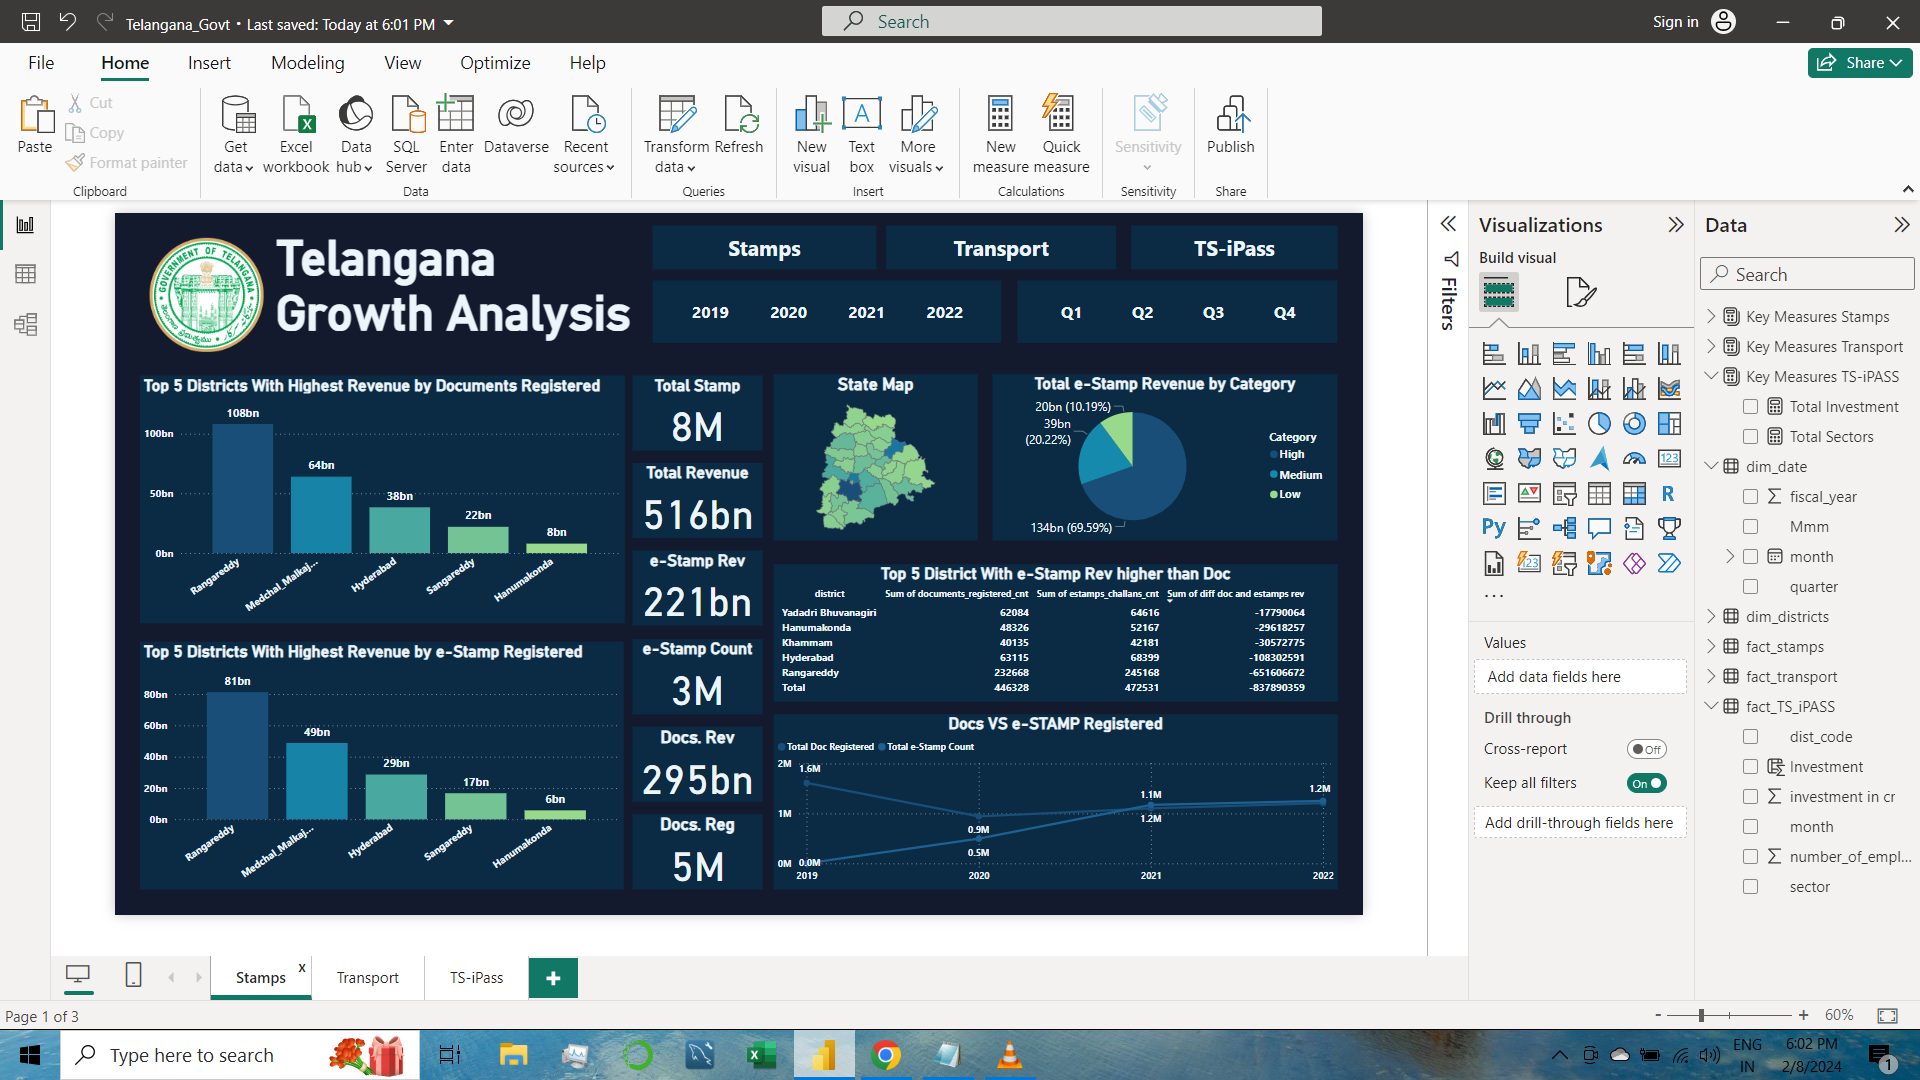

The dashboard page shown, as its layout file describes it:
{"tool":"powerbi","page":{"name":"Stamps","canvas":[1664,936],"ordinal":0},"visuals":[{"type":"slicer","fields":{"Values":["dim_date.fiscal_year"]},"box":[716.7,90,465,83.3],"z":0},{"type":"slicer","fields":{"Values":["dim_date.quarter"]},"box":[1203.3,90,426.7,83.3],"z":1000},{"type":"clusteredColumnChart","title":"Top 5 Districts With Highest Revenue by Documents Registered","fields":{"Y":["Key Measures.Total Docs Reg Revenue"],"Category":["dim_districts.district"]},"box":[34,216,646,330],"z":2000},{"type":"clusteredColumnChart","title":"Top 5 Districts With Highest Revenue by e-Stamp Registered","fields":{"Y":["Key Measures.Total e-Stamp Revenue"],"Category":["dim_districts.district"]},"box":[33.3,571.7,645,330],"z":3000},{"type":"lineChart","title":"Docs VS e-STAMP Registered","fields":{"Y":["Key Measures.Total Doc Registered","Key Measures.Total e-Stamp Count"],"Category":["dim_date.fiscal_year"]},"box":[878.3,668.3,751.7,233.3],"z":4000},{"type":"tableEx","title":"Top 5 District With e-Stamp Rev higher than Doc","fields":{"Values":["dim_districts.district","Sum(fact_stamps.documents_registered_cnt)","Sum(fact_stamps.estamps_challans_cnt)","Sum(fact_stamps.diff doc and estamps rev)"]},"box":[878.3,468.3,751.7,183.3],"z":5000},{"type":"pieChart","fields":{"Y":["Key Measures.Total e-Stamp Revenue"],"Category":["fact_stamps.Category"]},"box":[1170,215,460,221.7],"z":6000},{"type":"card","title":"Docs. Reg","fields":{"Values":["Key Measures.Total Doc Registered"]},"box":[690,801.7,173.3,100],"z":7000},{"type":"card","title":"Docs. Rev","fields":{"Values":["Key Measures.Total Docs Reg Revenue"]},"box":[690,684.7,173.3,100],"z":8000},{"type":"card","title":"e-Stamp Count","fields":{"Values":["Key Measures.Total e-Stamp Count"]},"box":[690,567.7,173.3,100],"z":9000},{"type":"card","title":"e-Stamp Rev","fields":{"Values":["Key Measures.Total e-Stamp Revenue"]},"box":[690,450.7,173.3,100],"z":10000},{"type":"shapeMap","title":"State Map","fields":{"Category":["dim_districts.district"],"Value":["Key Measures Stamps.Total Doc Registered"]},"box":[878.3,215,271.7,221.7],"z":11000},{"type":"card","title":"Total Revenue","fields":{"Values":["Key Measures.Total Revenue"]},"box":[690,333.7,173.3,100],"z":12000},{"type":"card","title":"Total Stamp","fields":{"Values":["Key Measures.Total Stamps"]},"box":[690,216.7,173.3,100],"z":13000},{"type":"image","box":[33.3,28.3,176.7,161.7],"z":14000},{"type":"textbox","box":[210,16.7,506.7,173.3],"z":15000},{"type":"actionButton","box":[716.7,16.7,298.3,58.3],"z":16000},{"type":"actionButton","box":[1355,16.7,275,58.3],"z":17000},{"type":"actionButton","box":[1028.3,16.7,306.7,58.3],"z":18000}]}

Visuals, with their boxes on the page's 1664x936 design canvas (x1, y1, x2, y2). These are canvas units, not pixel positions in the 1920x1080 screenshot, which may show the page scaled, cropped or inside an application window:
slicer - dim_date.fiscal_year: [left=717, top=90, right=1182, bottom=173]
slicer - dim_date.quarter: [left=1203, top=90, right=1630, bottom=173]
"Top 5 Districts With Highest Revenue by Documents Registered" clusteredColumnChart: [left=34, top=216, right=680, bottom=546]
"Top 5 Districts With Highest Revenue by e-Stamp Registered" clusteredColumnChart: [left=33, top=572, right=678, bottom=902]
"Docs VS e-STAMP Registered" lineChart: [left=878, top=668, right=1630, bottom=902]
"Top 5 District With e-Stamp Rev higher than Doc" tableEx: [left=878, top=468, right=1630, bottom=652]
pieChart - Key Measures.Total e-Stamp Revenue x fact_stamps.Category: [left=1170, top=215, right=1630, bottom=437]
"Docs. Reg" card: [left=690, top=802, right=863, bottom=902]
"Docs. Rev" card: [left=690, top=685, right=863, bottom=785]
"e-Stamp Count" card: [left=690, top=568, right=863, bottom=668]
"e-Stamp Rev" card: [left=690, top=451, right=863, bottom=551]
"State Map" shapeMap: [left=878, top=215, right=1150, bottom=437]
"Total Revenue" card: [left=690, top=334, right=863, bottom=434]
"Total Stamp" card: [left=690, top=217, right=863, bottom=317]
image: [left=33, top=28, right=210, bottom=190]
textbox: [left=210, top=17, right=717, bottom=190]
actionButton: [left=717, top=17, right=1015, bottom=75]
actionButton: [left=1355, top=17, right=1630, bottom=75]
actionButton: [left=1028, top=17, right=1335, bottom=75]
